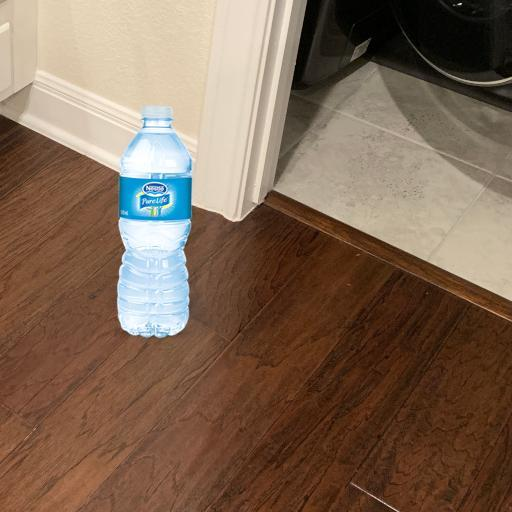bottle: (0, 89, 52, 348)
